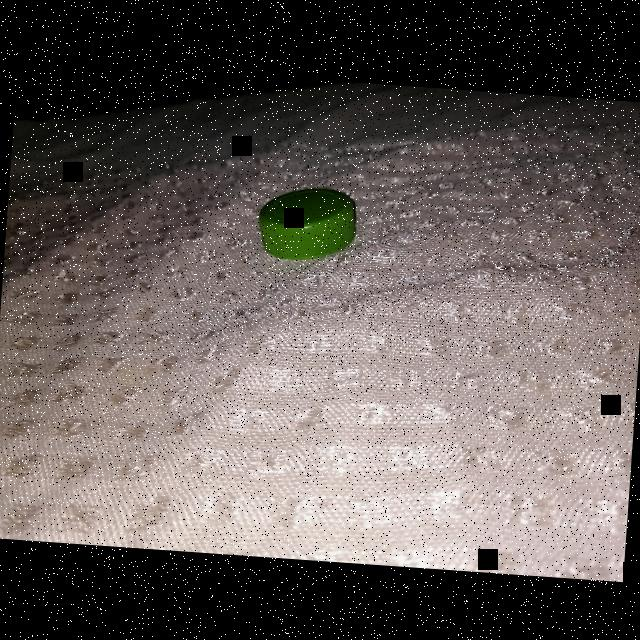plastic_bottle_cap: (255, 183, 358, 263)
